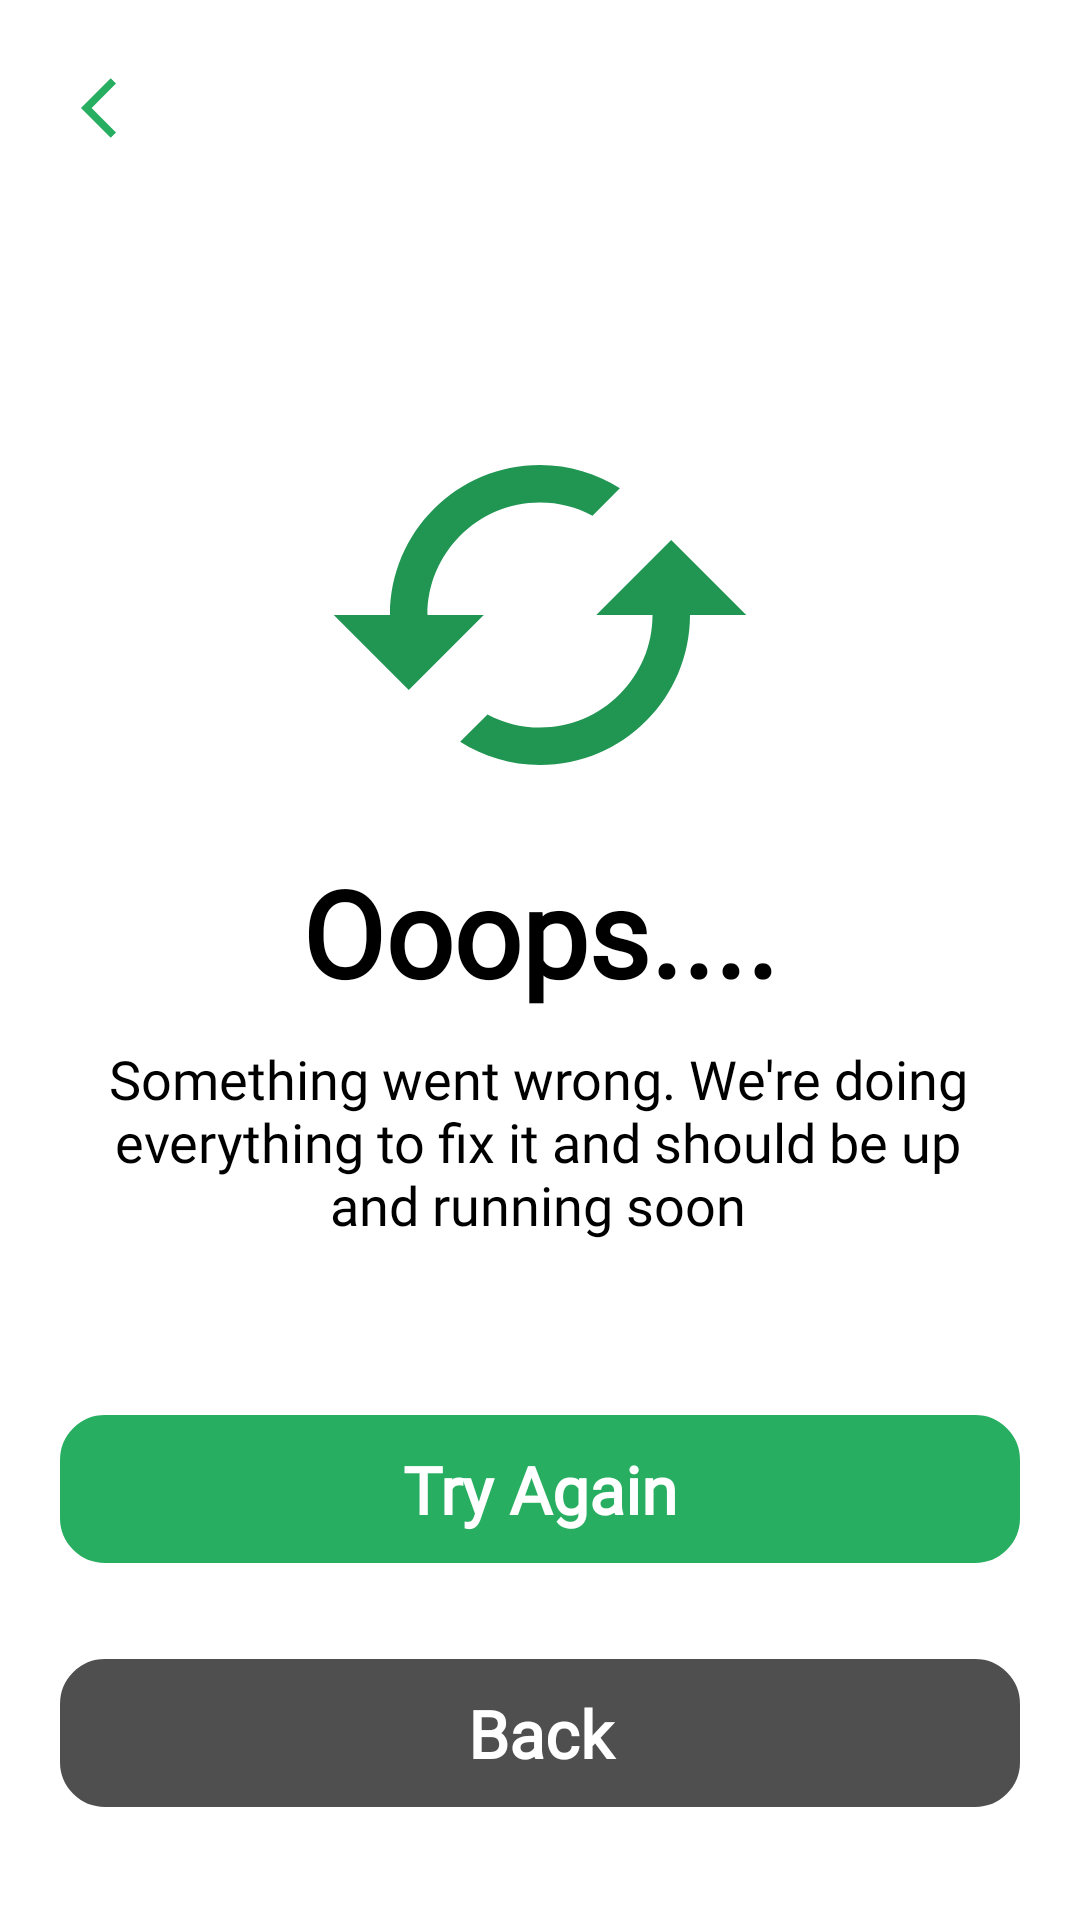

Locate icon controls on the screen. Image size 1080×1920, boxes as (x1, y1, x2, y2).
arrow back: (81, 78, 116, 138)
